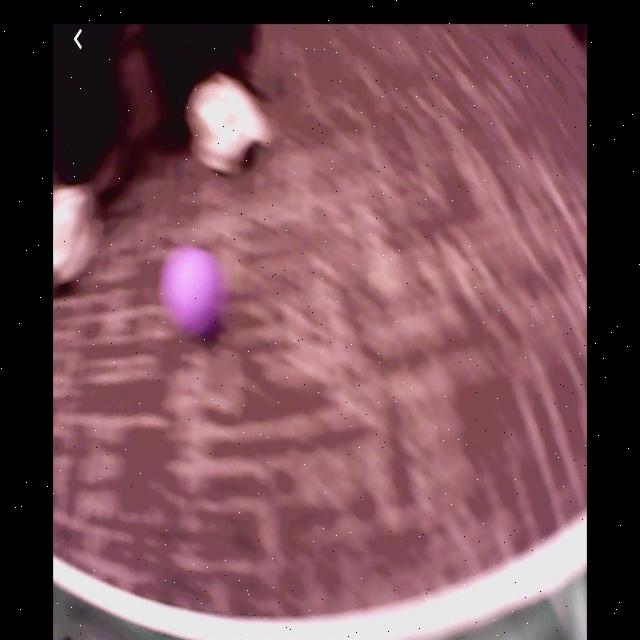ball: (168, 247, 219, 335)
